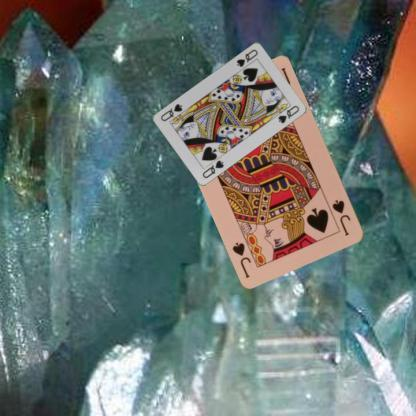Js: (330, 197, 352, 237)
Qs: (234, 46, 259, 68), (200, 157, 225, 179)
